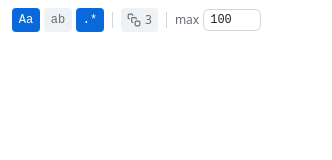
Test case: the max box › marks 0 red and invalid, with the rule under the line
Step 1. Replace the text in the field named "Most matches" with "0" → x=232, y=20, box [203, 9, 261, 31]
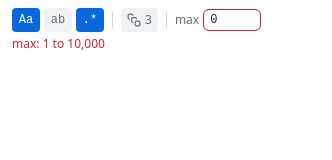
Expected: the text "max: 1 to 10,000" is shown, [12, 35, 105, 52]
